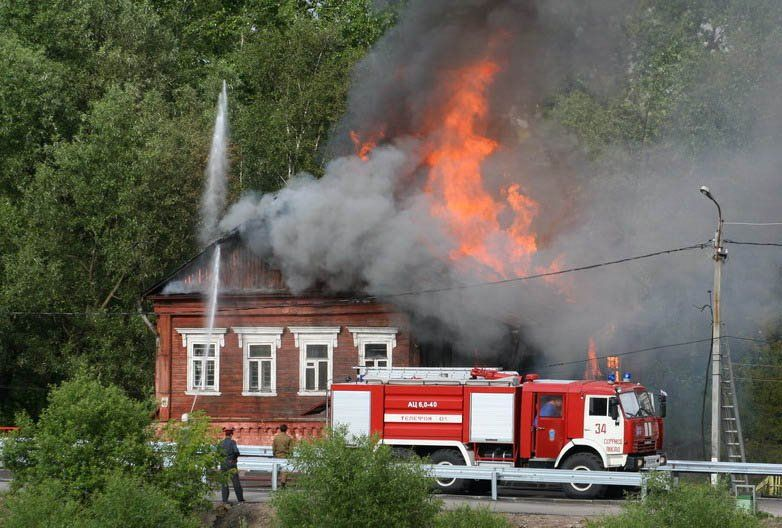fire: (206, 60, 671, 340)
